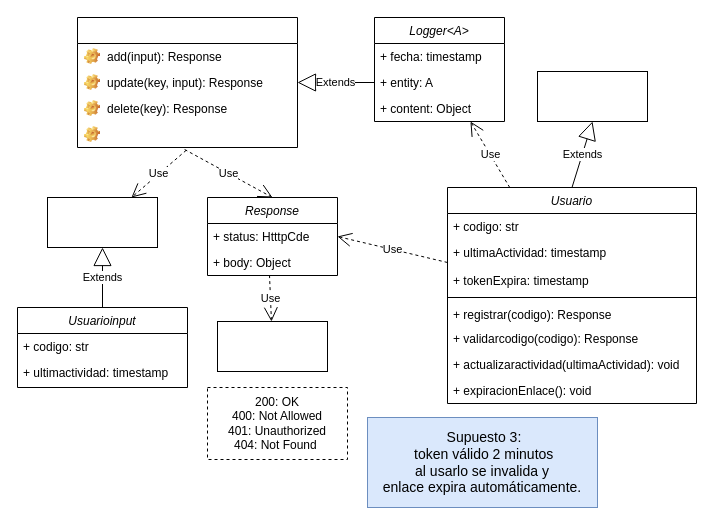
Some shapes in this 714 by 525 pixel diagram are drawn without their labels. Each missing label, with the box of its shape:
HttpCode: (216, 320, 328, 372)
ICRUD<E>: (76, 16, 298, 148)
query(key): Response: (77, 121, 297, 147)
«interface» ICRUD: (536, 70, 648, 122)
«interface» input: (46, 196, 158, 248)
